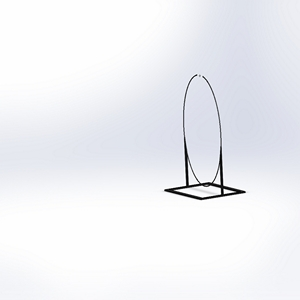circle: (161, 72, 247, 202)
